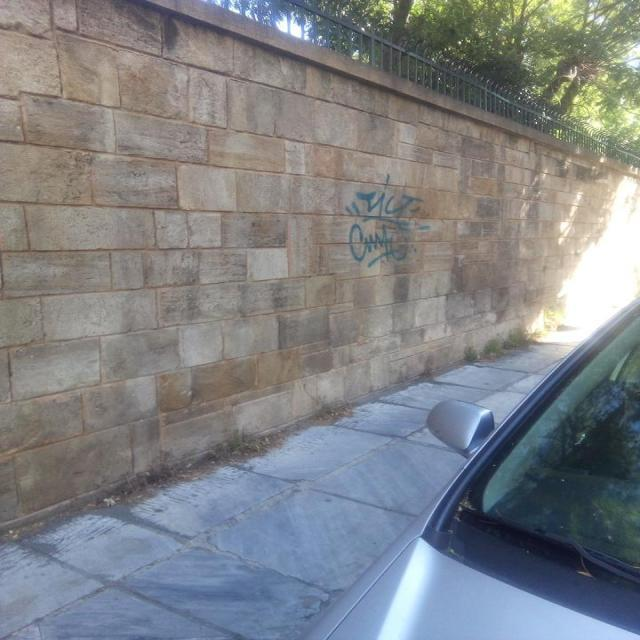nonspitting: (348, 174, 432, 268)
